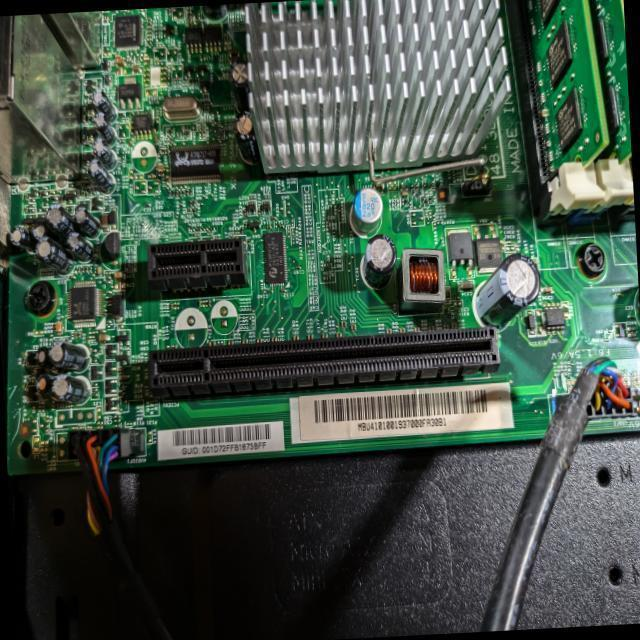Mainboard: (0, 0, 640, 476)
RAM: (526, 0, 609, 221), (588, 0, 635, 216)
